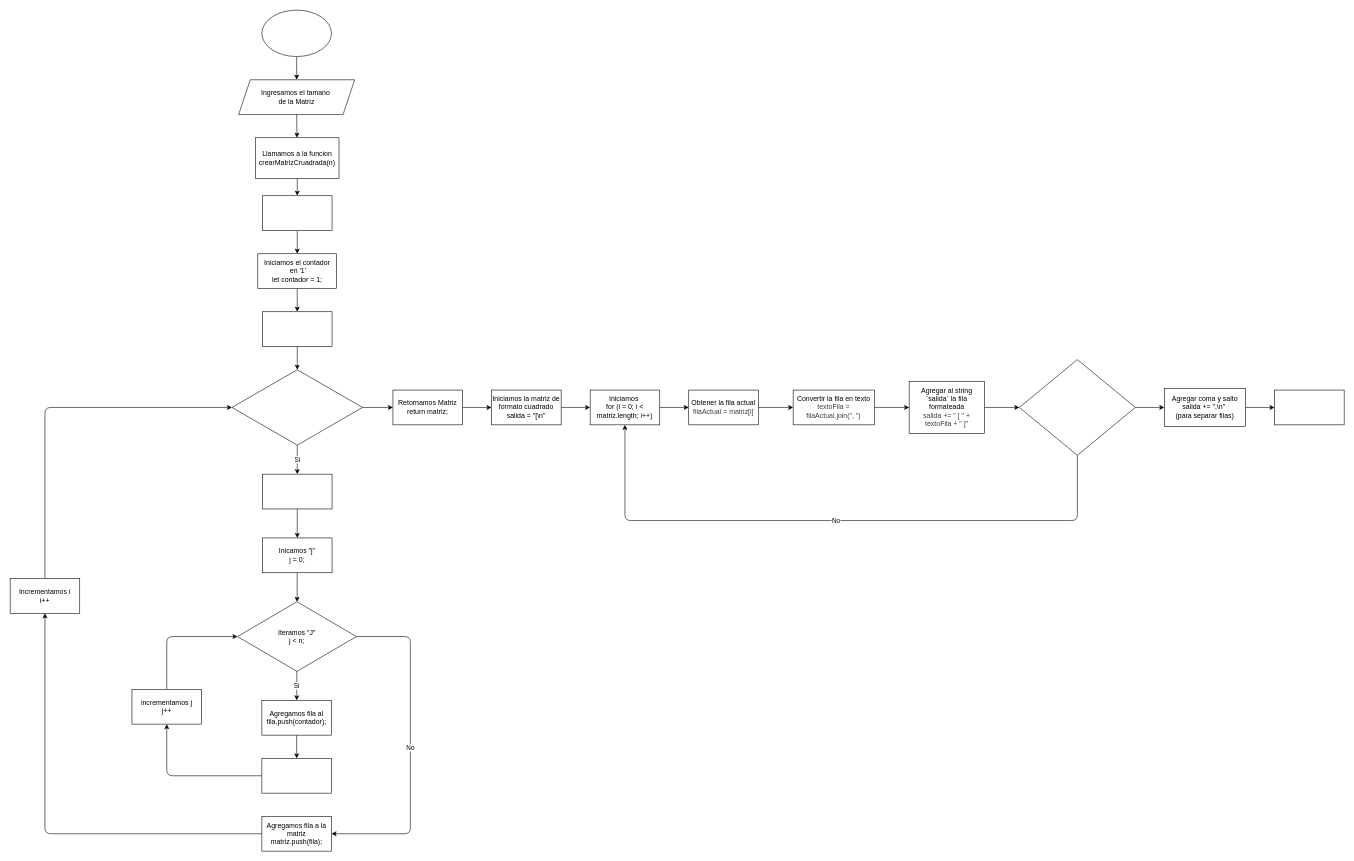
The diagram is 1354 pixels wide and 861 high, and some of its shapes have lost their labels. The box of each missing label's shape, as (x1, y1, x2, y2) in pixels:
aumentamos en contador contador ++: (261, 758, 331, 793)
es la última fila? i < matriz.length - 1: (1019, 359, 1135, 455)
I es menor que "n"? i < n;: (231, 369, 362, 445)
Imprimimos la Matriz console.log(salida);: (1274, 389, 1344, 425)
Iniciamos el iterador let i = 0;: (262, 311, 332, 347)
Iniciamos Fila let fila = [ ];: (262, 474, 332, 509)
Iniciamos la matriz vacia let matriz = [];: (262, 195, 332, 231)
Inicio: (261, 10, 331, 57)
